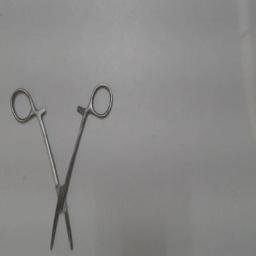Mayo Needle Holder: (8, 80, 116, 254)
